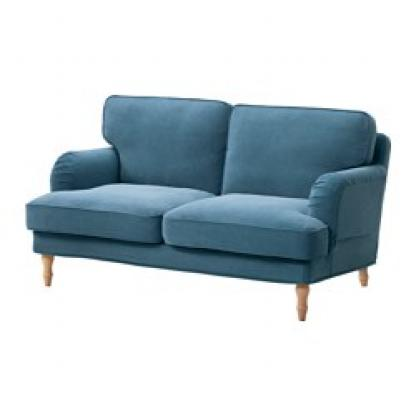Sofa: (17, 76, 391, 330)
